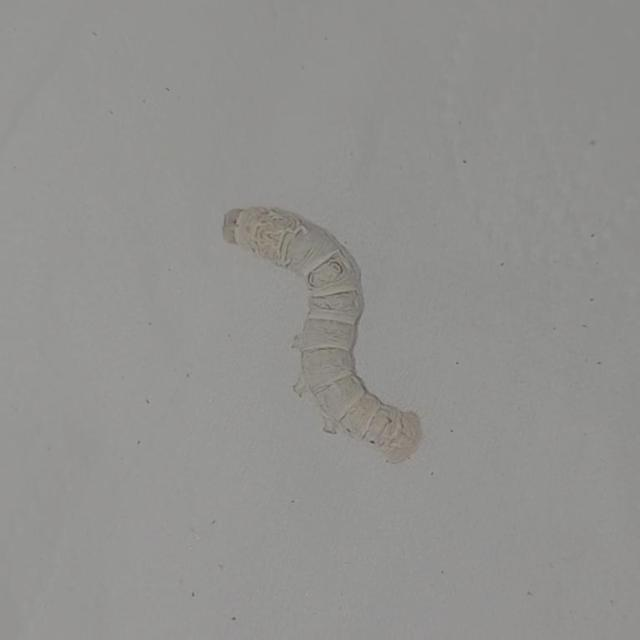Healthy: (215, 192, 428, 473)
